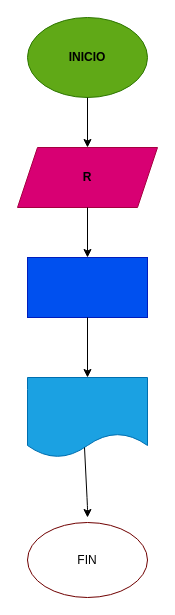
This 175x615 diagram has some shape labels left out. Here are the shapes that lost their labels. From the top down, the centre of each, then its label:
the point at 87,287: A=PI*R*R 2 P=2*PI*R
the point at 87,417: A,P
